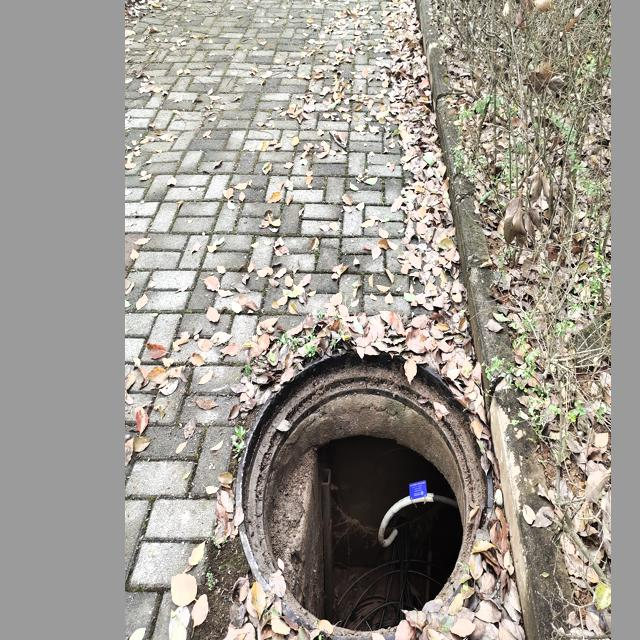lose: (241, 342, 487, 640)
